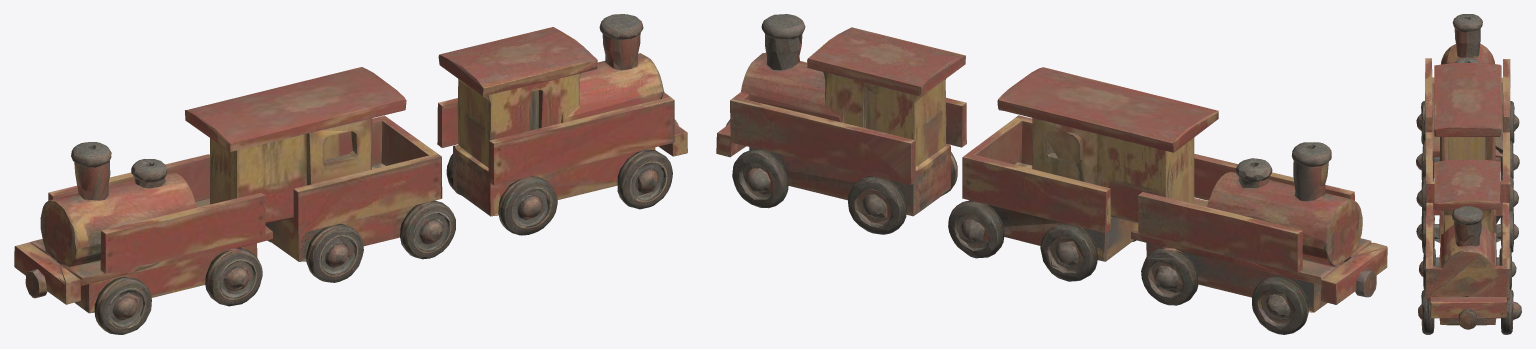
File: trenino_N.glb
3 renders of one model, left to right at view 1: azimuth 30°, elevation 25°; view 2: azimuth 150°, elevation 25°; view 3: azimuth 270°, elevation 25°, orthographic. The views are drawn at different scales.
Parts seen in each view (by area): view 1: Mesh_0; view 2: Mesh_0; view 3: Mesh_0.
Boxes of the visible parts, x1,y1,x2,y2 form: Mesh_0: (14,14,687,334); Mesh_0: (716,14,1387,334); Mesh_0: (1416,14,1521,334).
Size of the model in its own units: 0.5 by 0.1251 by 0.0962.
1 material, 1 textured.
